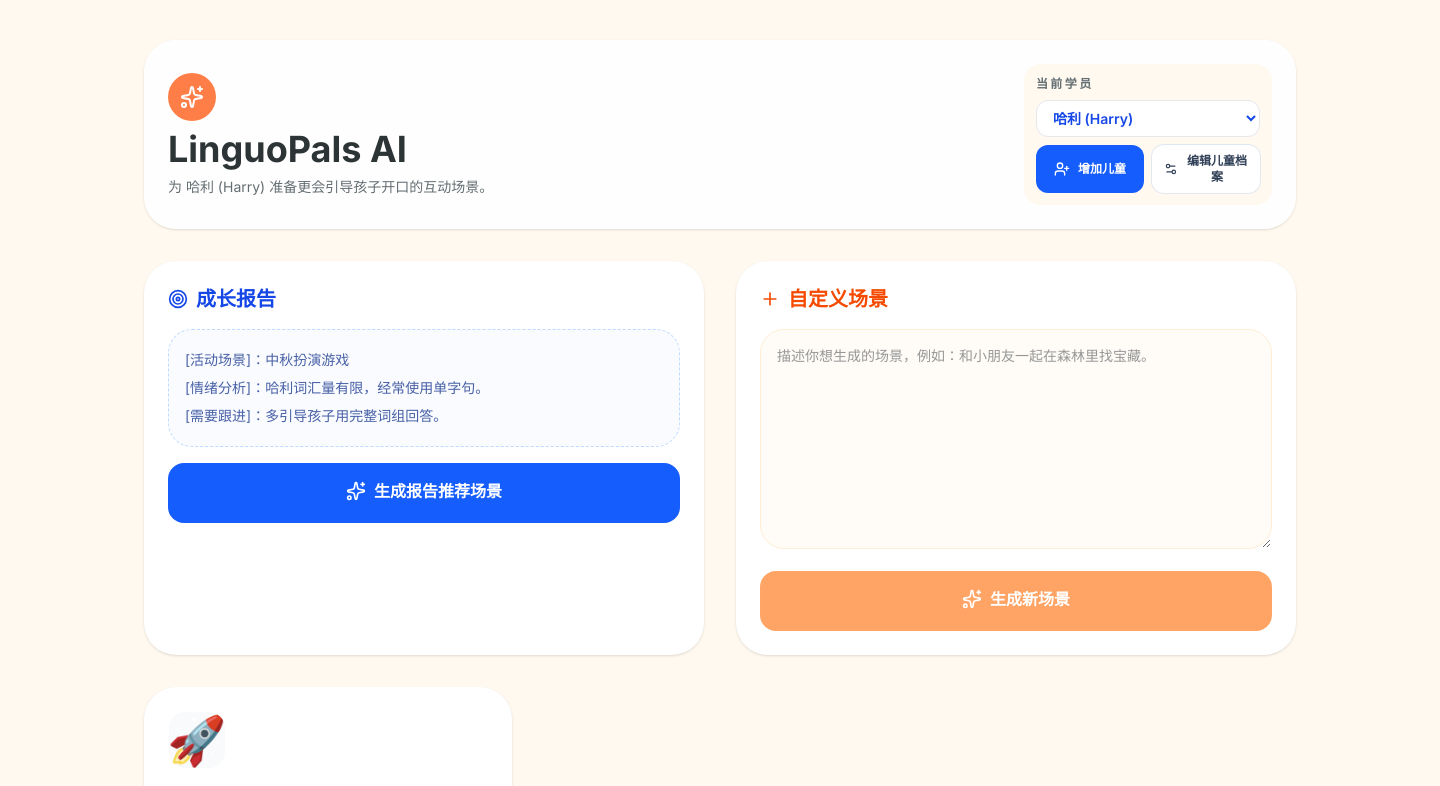
Test: App interaction flow › lets people add a child profile with the required fields
Click the button "增加儿童": [1090, 169] box [1036,145,1144,193]
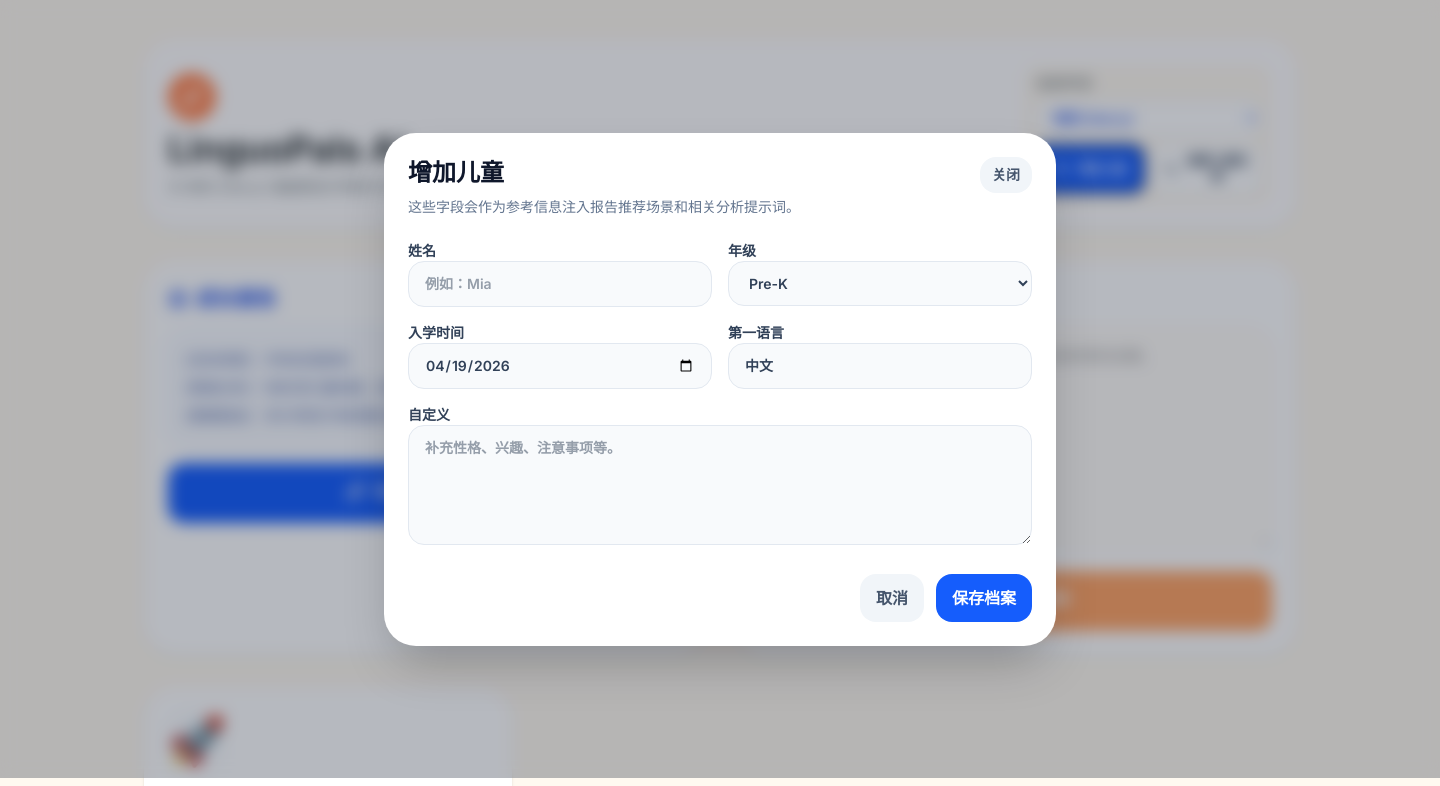
In the field labelled "姓名": [560, 284] box [408,260,712,306], type "Mia"
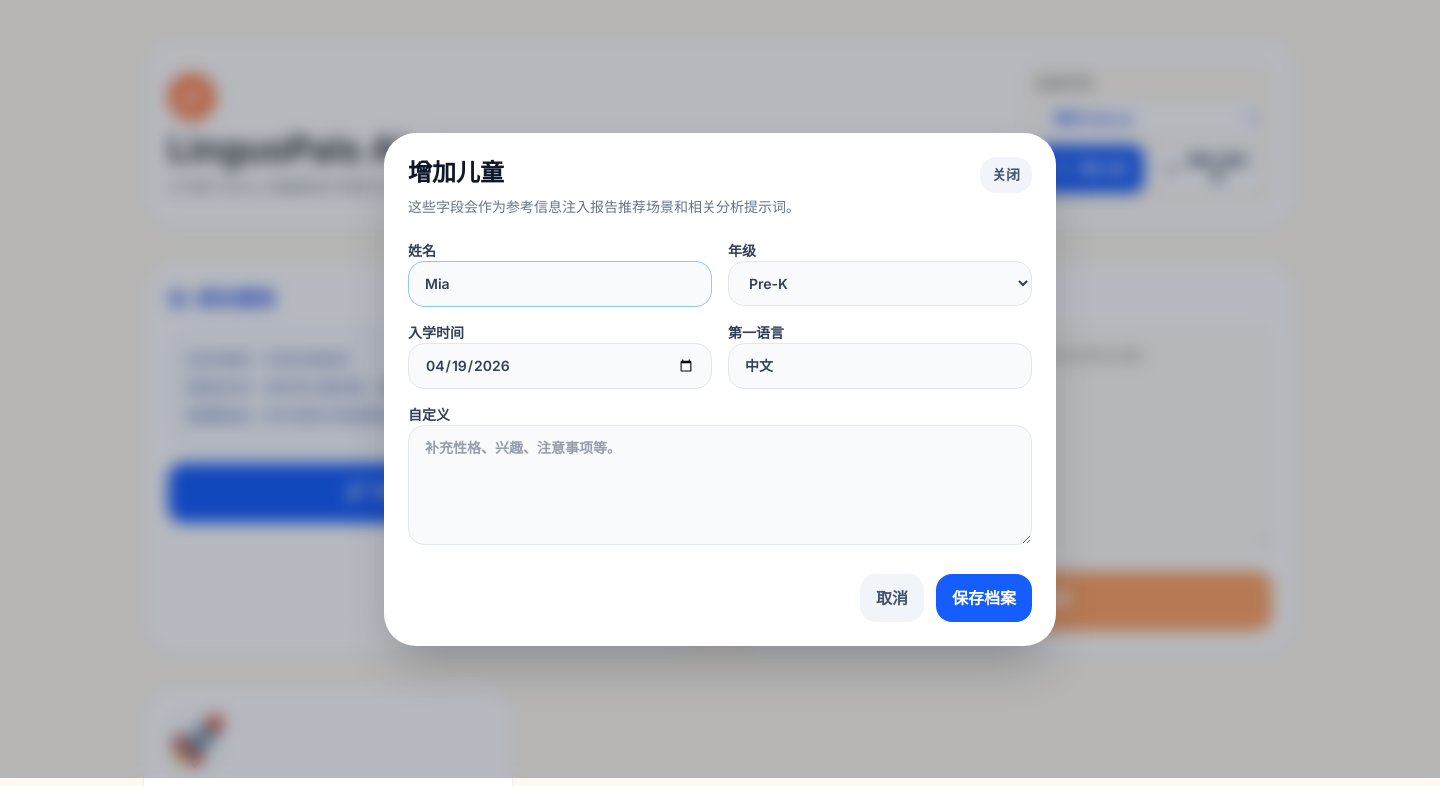
Select "G3" in the dropdown labelled "年级": [880, 283] box [728,260,1032,306]
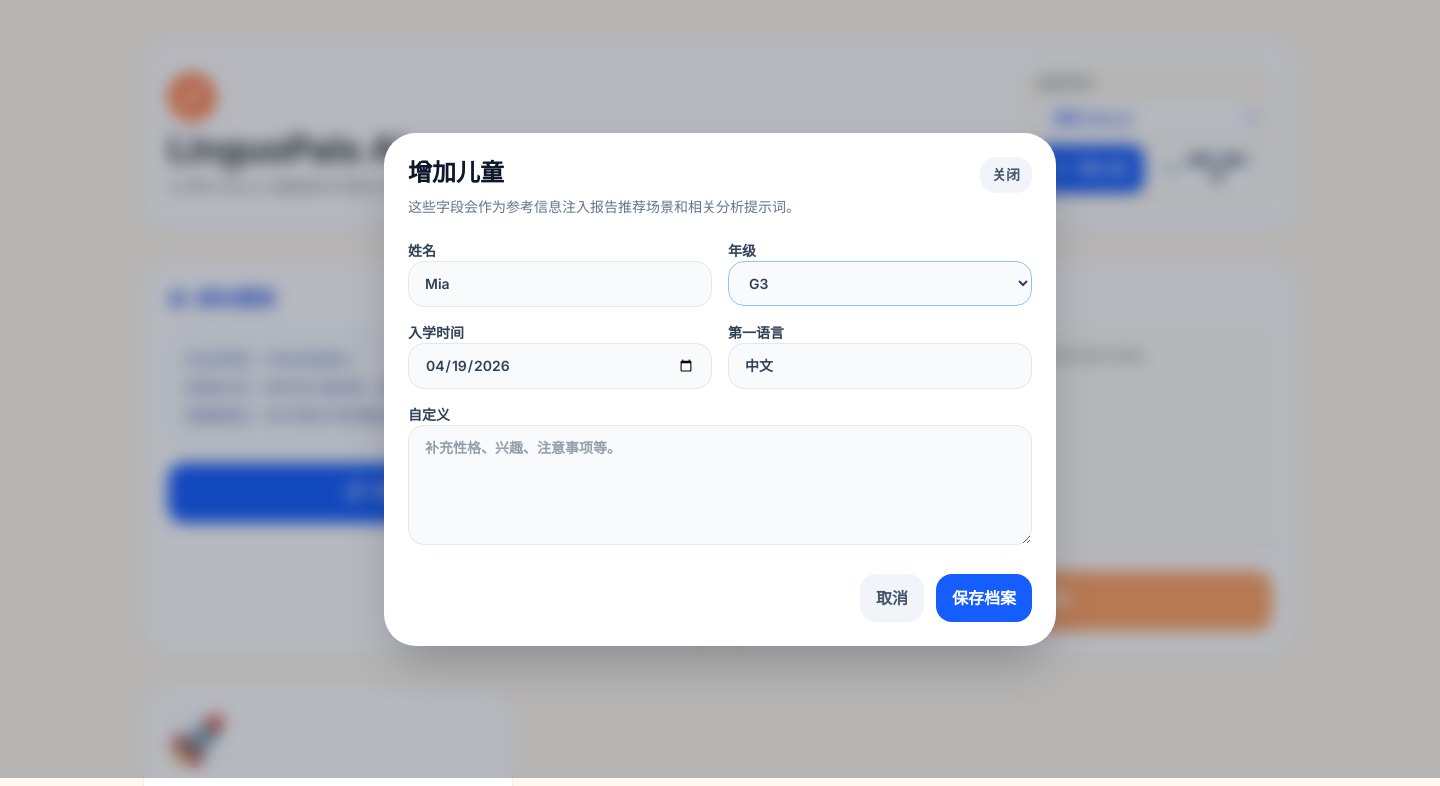
In the field labelled "第一语言": [880, 366] box [728,342,1032,388], type "English"
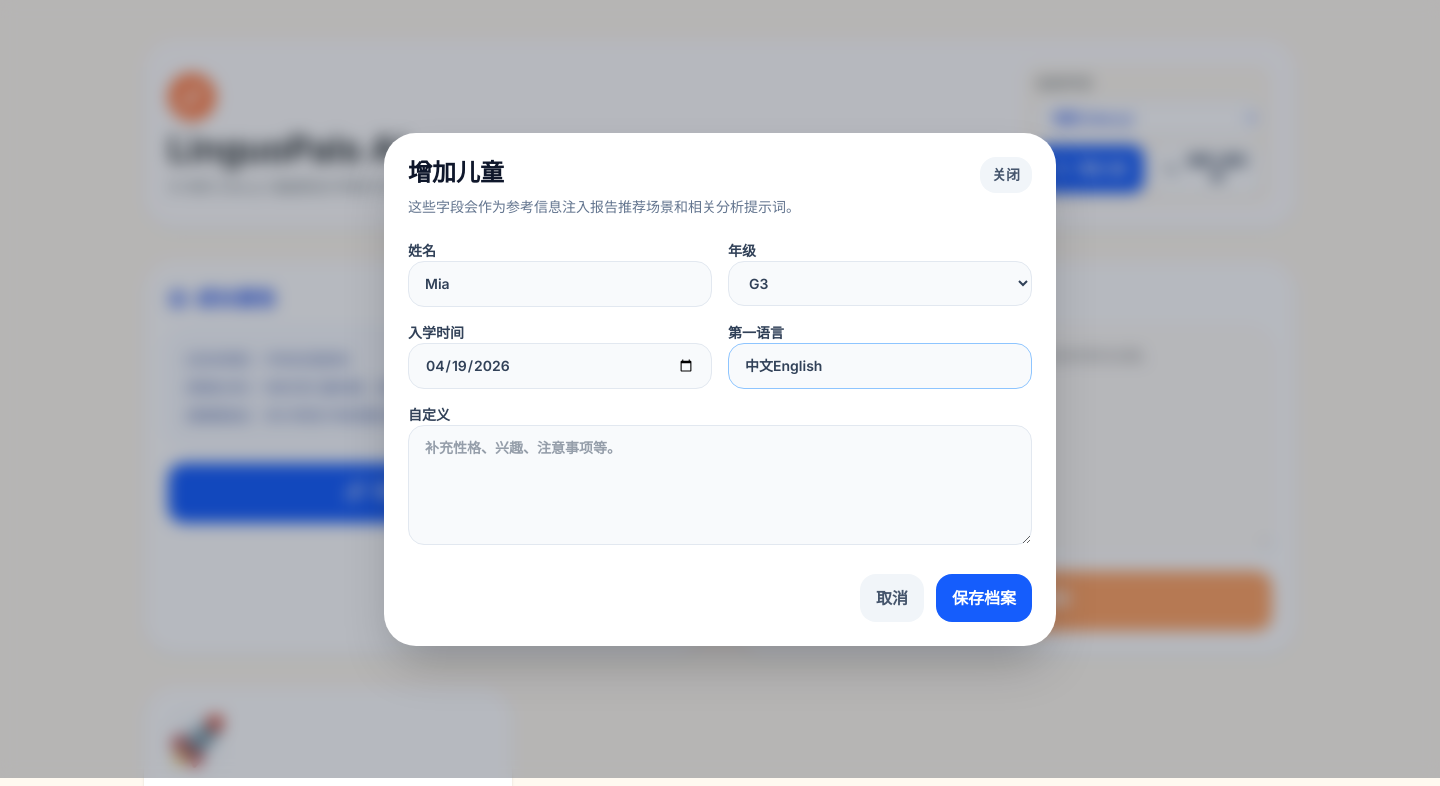
In the text box labelled "自定义": [720, 484] box [408,424,1032,544], type "Loves cooking games"
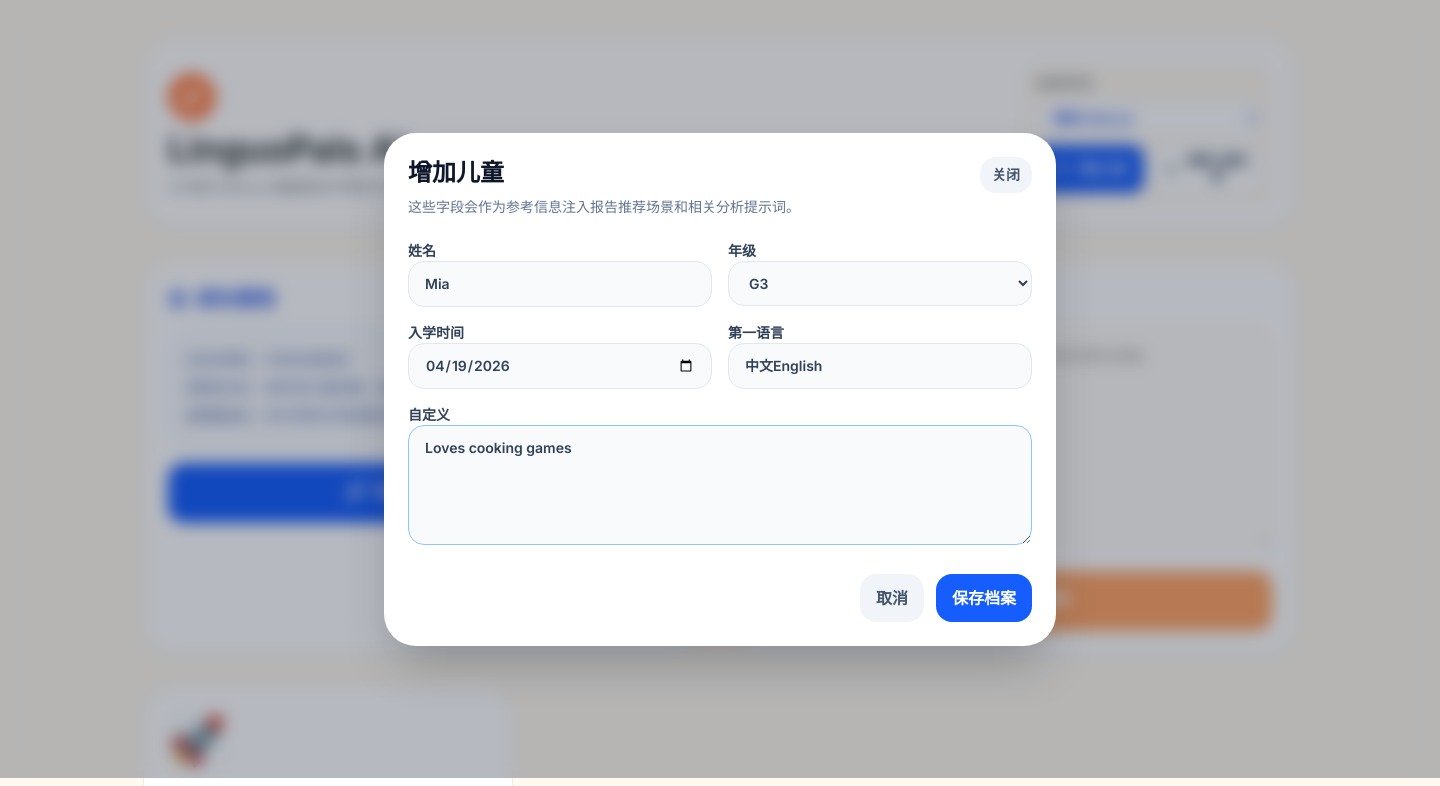
Click the button "保存档案": [984, 598] box [936,574,1032,622]
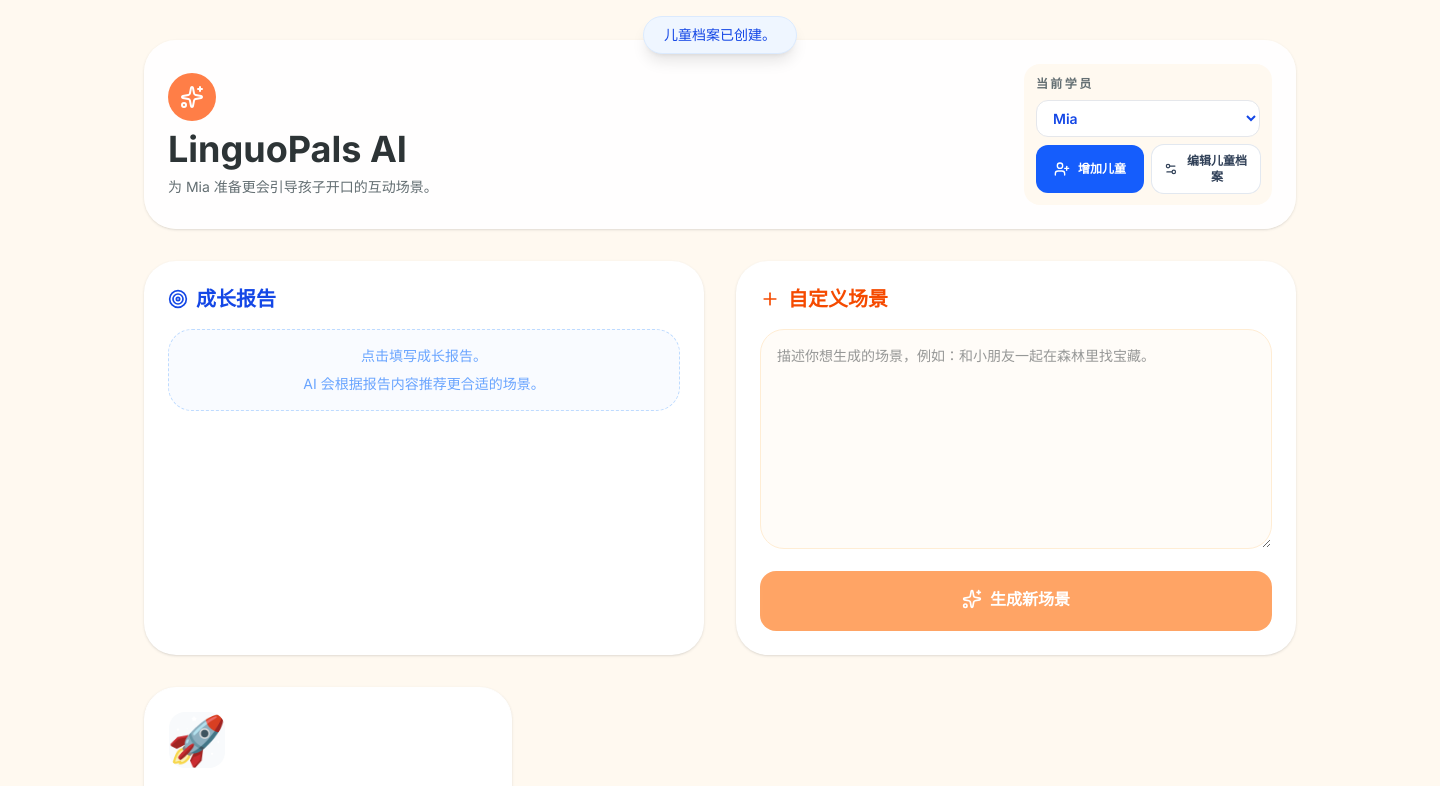
Expected: the dropdown showing "Mia" is shown, [1036,100,1260,137]
